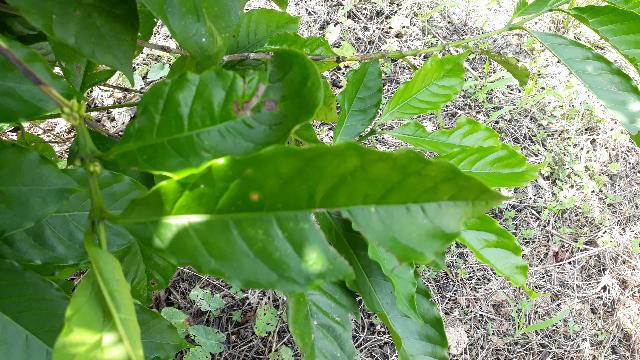rust_level_1: (119, 143, 485, 292)
